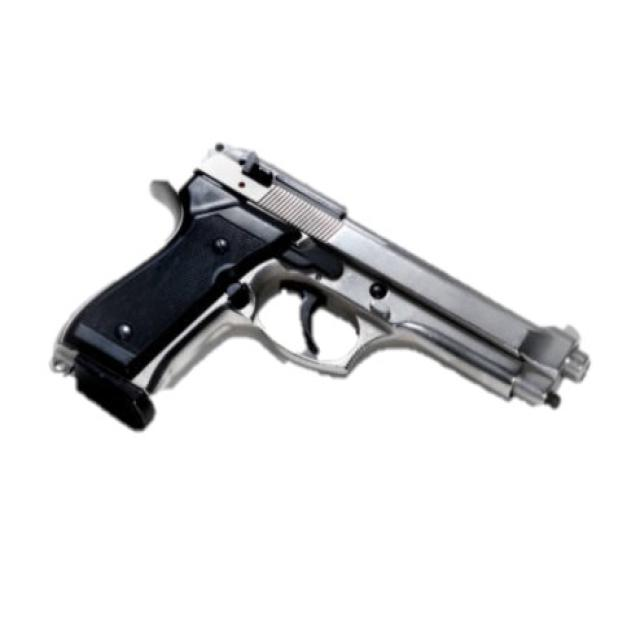pistol: (44, 131, 598, 452)
